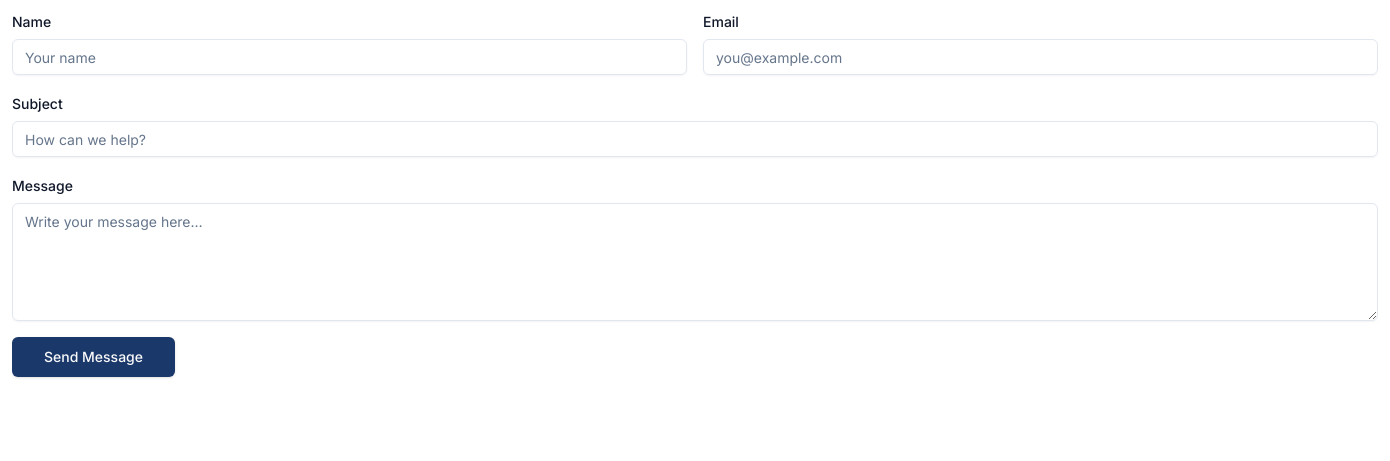
ContactForm › client-side validation on submit › shows "Name is required." when name is empty
Click the button "Send Message" at {"x": 94, "y": 357}, box left=12, top=337, right=175, bottom=377
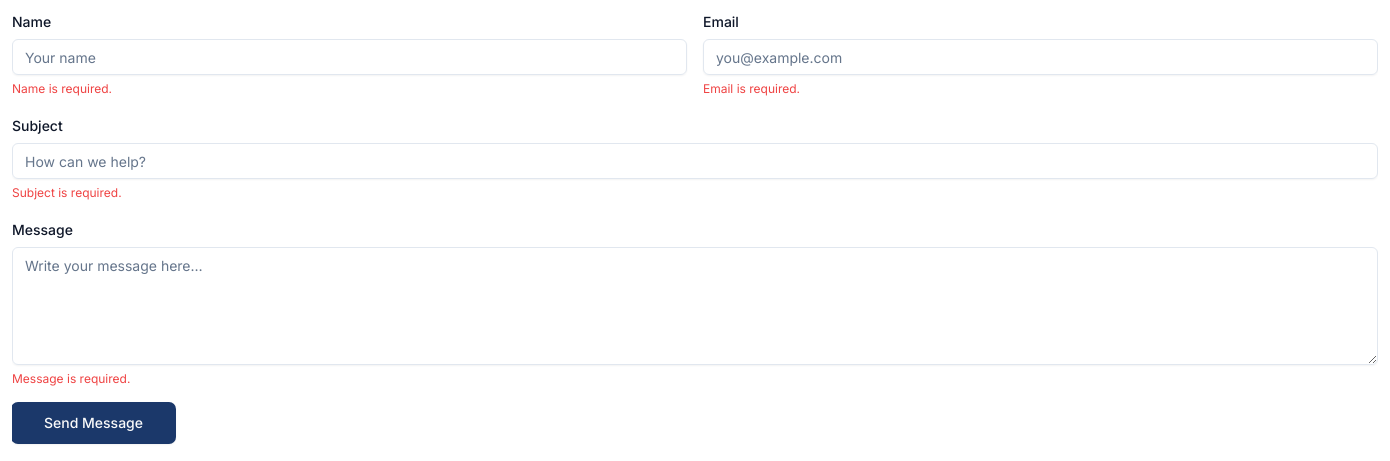
expect the text "Name is required." is shown: met, box left=12, top=81, right=112, bottom=96
